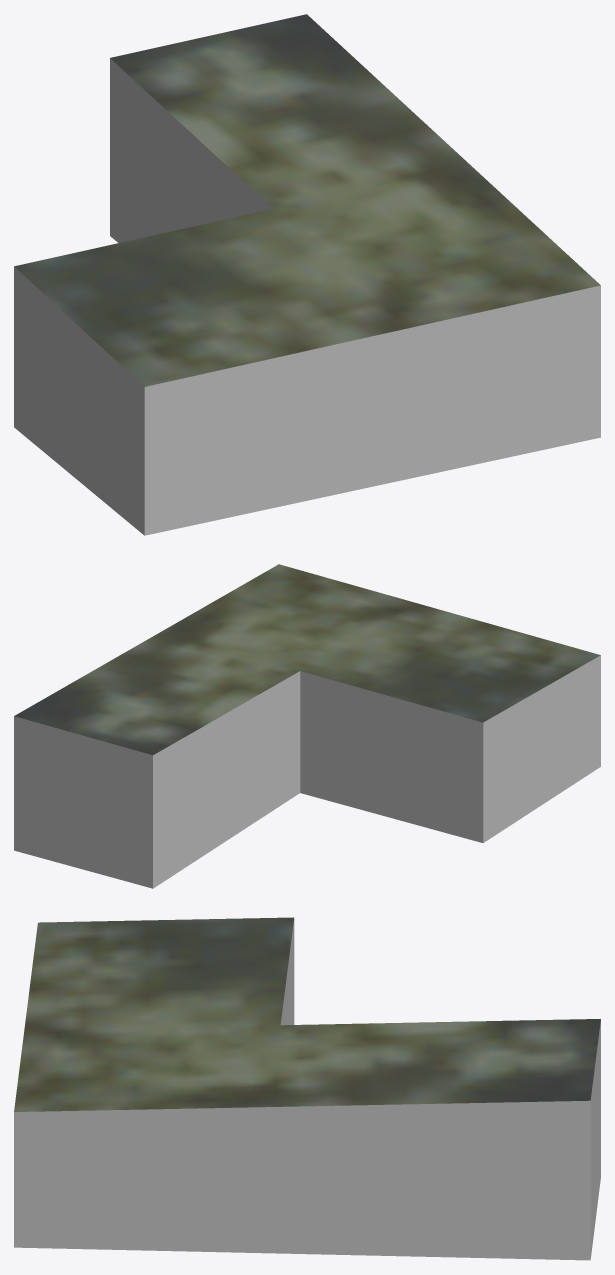
Rendered from DEBW_0010007Txd6.gltf.
3 renders of one model, top to bottom at view 1: azimuth 30°, elevation 25°; view 2: azimuth 150°, elevation 25°; view 3: azimuth 270°, elevation 25°, orthographic. The views are drawn at different scales.
Parts seen in each view (by area): view 1: Z_UP; view 2: Z_UP; view 3: Z_UP.
Boxes of the visible parts, bbox=[...] form: Z_UP: bbox=[14, 14, 600, 535]; Z_UP: bbox=[14, 564, 600, 888]; Z_UP: bbox=[14, 917, 600, 1260].
Size of the model in its own units: 7.51 by 2.72 by 9.07.
Materials: 2 (1 with a texture image).
